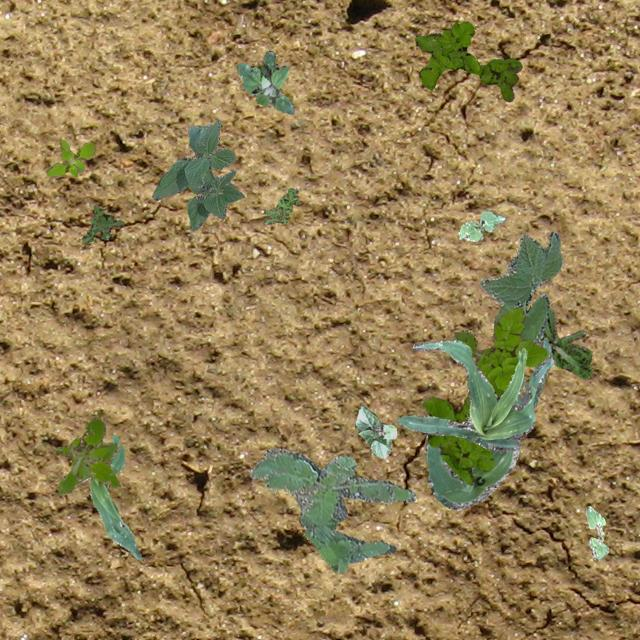crop: (424, 336, 550, 509), (396, 340, 552, 450), (152, 118, 242, 230), (478, 230, 562, 344), (81, 434, 142, 560), (354, 404, 396, 458), (458, 208, 506, 240), (584, 504, 608, 558)
weed: (420, 306, 548, 484), (248, 447, 414, 572), (414, 20, 520, 100), (54, 418, 120, 494), (538, 306, 590, 378), (235, 50, 292, 114), (44, 138, 94, 176), (80, 204, 122, 242), (262, 188, 300, 222)
